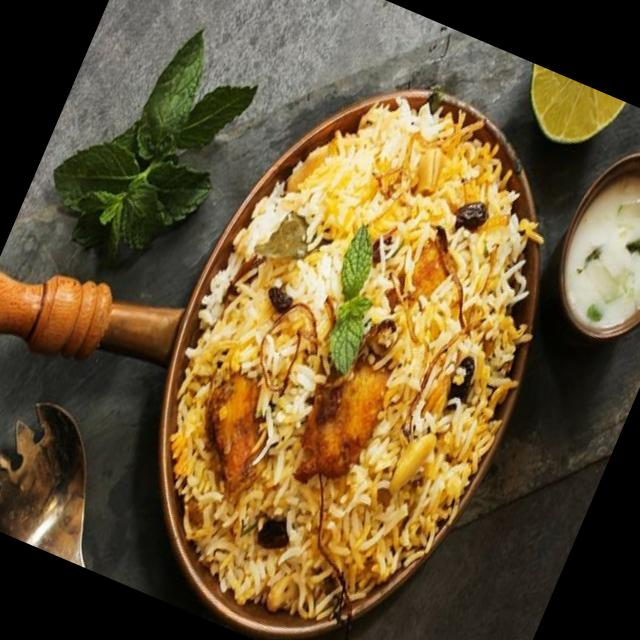Biryani: (95, 38, 614, 640)
